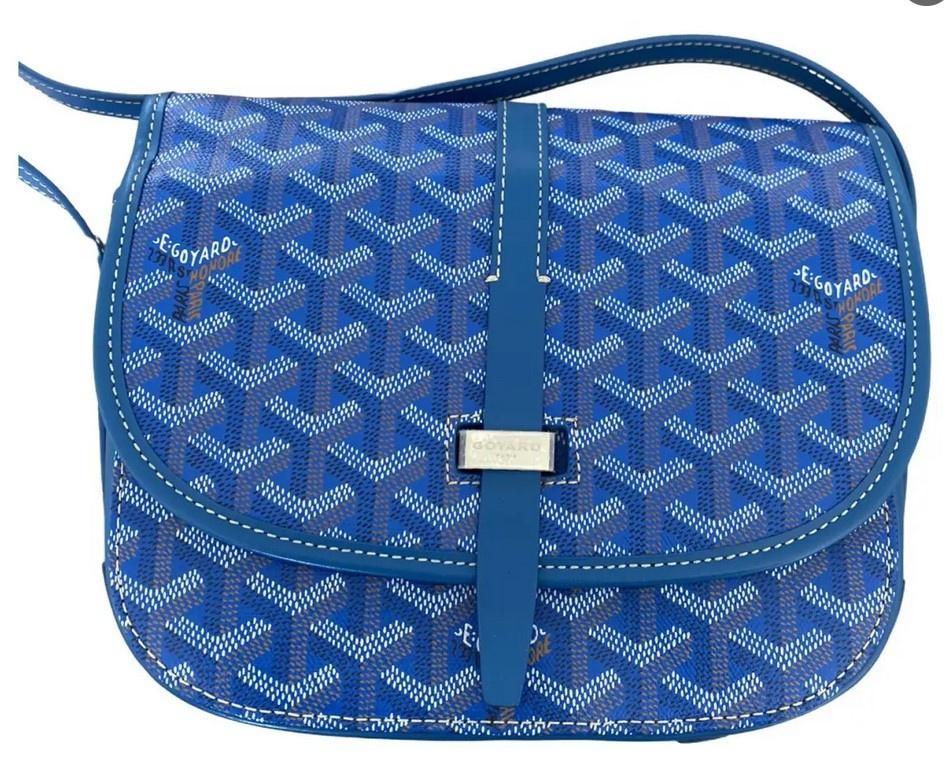GOYARD: (117, 96, 908, 736)
